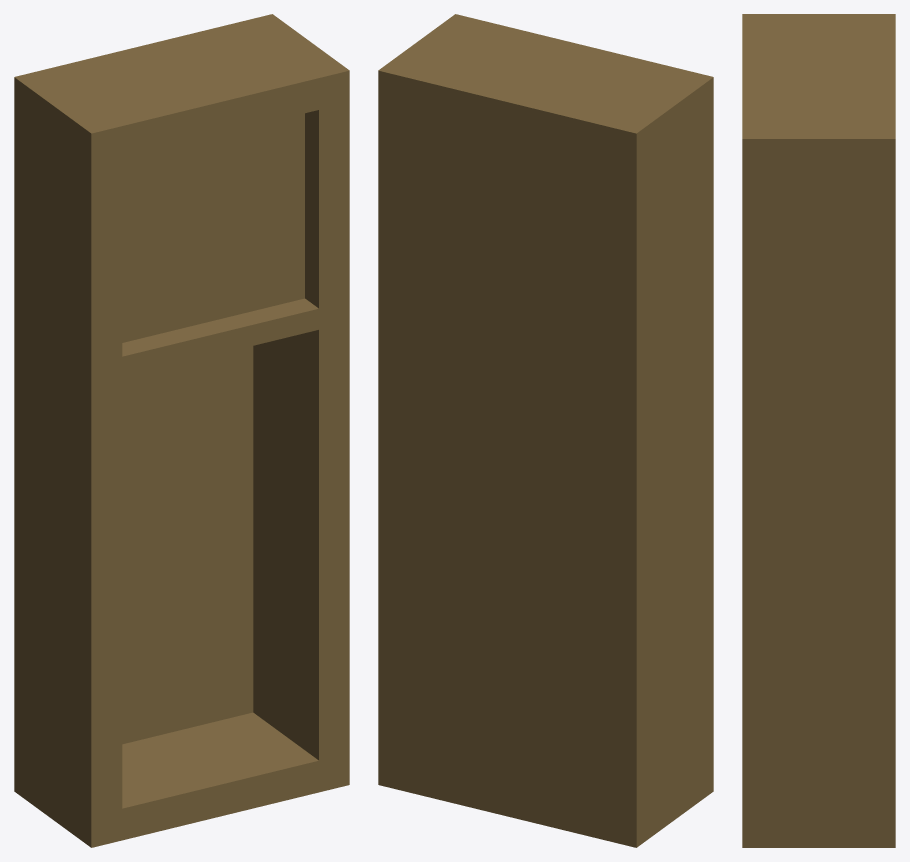
File: Itr_Obj_Grandfatherclock2_Body_01.FBX
3 renders of one model, left to right at view 1: azimuth 30°, elevation 25°; view 2: azimuth 150°, elevation 25°; view 3: azimuth 270°, elevation 25°, orthographic.
Parts seen in each view (by area): view 1: Itr_Obj_Grandfatherclock2_Body_01; view 2: Itr_Obj_Grandfatherclock2_Body_01; view 3: Itr_Obj_Grandfatherclock2_Body_01.
Boxes of the visible parts, box(x1,y1,x2,y2) form: Itr_Obj_Grandfatherclock2_Body_01: box(14, 14, 349, 847); Itr_Obj_Grandfatherclock2_Body_01: box(378, 14, 713, 847); Itr_Obj_Grandfatherclock2_Body_01: box(742, 14, 895, 847).
Bounding box in the file's own units: 20.58 × 54.37 × 10.67.
